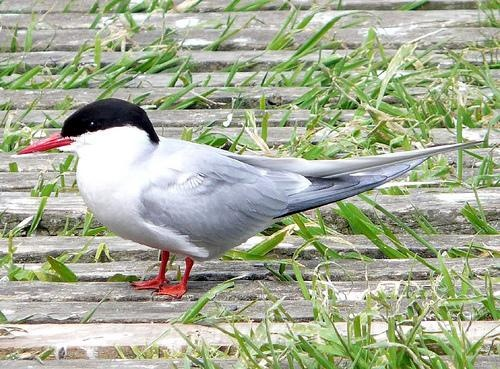bird: (15, 99, 484, 296)
